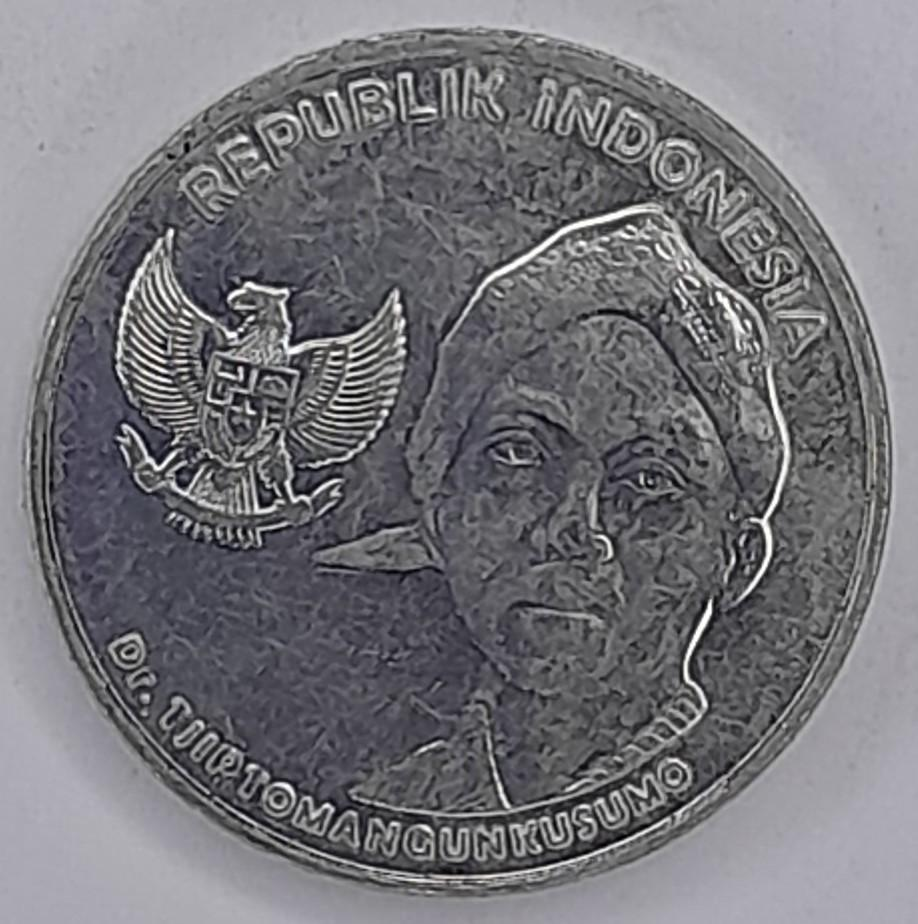coin_200_e2016: (0, 16, 918, 924)
